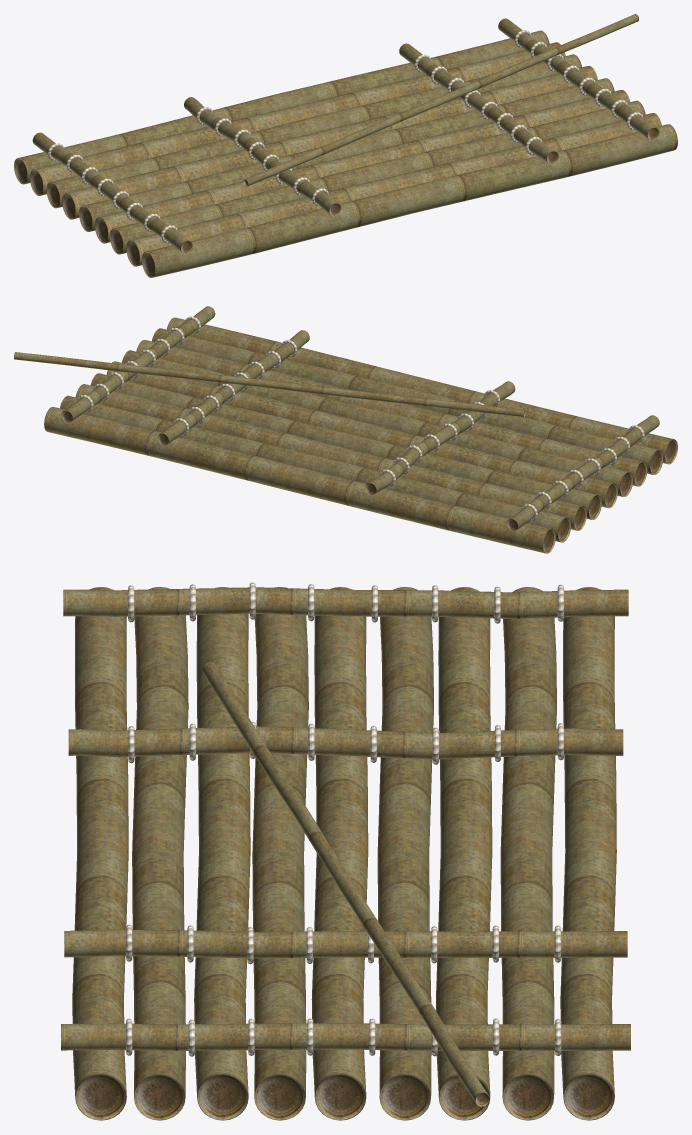
3 views of the same model, one above another, from view 1: azimuth 30°, elevation 25°; view 2: azimuth 150°, elevation 25°; view 3: azimuth 270°, elevation 25° (orthographic). The views are drawn at different scales.
Visible parts, largest first — view 1: JangadaBambu, Remo; view 2: JangadaBambu, Remo; view 3: JangadaBambu, Remo.
Part boxes in pixels (x1,y1,x2,y2): JangadaBambu: (14,18,677,277); Remo: (242,14,638,186); JangadaBambu: (44,306,677,553); Remo: (14,352,525,417); JangadaBambu: (61,582,630,1120); Remo: (202,662,489,1106).
Size of the model in its own units: 35.37 by 2.71 by 15.53.
1 material, 1 textured.
